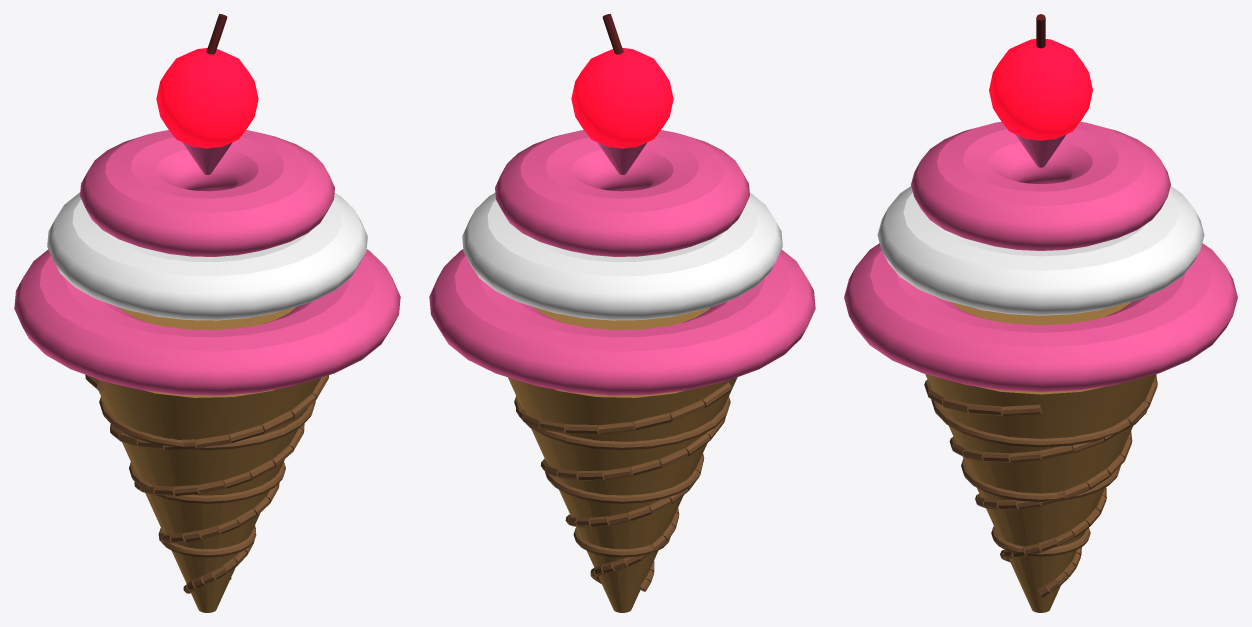
The model's file is ice_cream_cone.glb.
3 views of the same model, side by side, from view 1: azimuth 30°, elevation 25°; view 2: azimuth 150°, elevation 25°; view 3: azimuth 270°, elevation 25° (orthographic).
Parts seen in each view (by area): view 1: Swirl, Swirl.002, Swirl.001, Cone, Cherry, WaffleRing.002, WaffleRing.001, WaffleRing, SwirlTip; view 2: Swirl, Swirl.002, Swirl.001, Cone, Cherry, WaffleRing.002, WaffleRing.001, WaffleRing, SwirlTip; view 3: Swirl, Swirl.002, Swirl.001, Cone, Cherry, WaffleRing.002, WaffleRing.001, WaffleRing, SwirlTip.
Boxes of the visible parts, x1=… form: Swirl: x1=14, y1=249, x2=400, y2=395; Swirl.002: x1=80, y1=129, x2=334, y2=256; Swirl.001: x1=47, y1=192, x2=367, y2=320; Cone: x1=98, y1=306, x2=320, y2=612; Cherry: x1=156, y1=48, x2=258, y2=148; WaffleRing.002: x1=99, y1=397, x2=315, y2=450; WaffleRing.001: x1=129, y1=462, x2=285, y2=503; WaffleRing: x1=158, y1=528, x2=256, y2=557; SwirlTip: x1=183, y1=142, x2=232, y2=174; Swirl: x1=429, y1=249, x2=815, y2=395; Swirl.002: x1=495, y1=129, x2=749, y2=256; Swirl.001: x1=462, y1=192, x2=782, y2=320; Cone: x1=508, y1=306, x2=737, y2=612; Cherry: x1=571, y1=48, x2=673, y2=148; WaffleRing.002: x1=514, y1=396, x2=730, y2=450; WaffleRing.001: x1=545, y1=472, x2=696, y2=503; WaffleRing: x1=573, y1=528, x2=670, y2=557; SwirlTip: x1=597, y1=142, x2=646, y2=174; Swirl: x1=844, y1=243, x2=1237, y2=392; Swirl.002: x1=911, y1=121, x2=1170, y2=250; Swirl.001: x1=877, y1=186, x2=1204, y2=315; Cone: x1=925, y1=302, x2=1156, y2=612; Cherry: x1=989, y1=39, x2=1092, y2=140; WaffleRing.002: x1=931, y1=399, x2=1147, y2=447; WaffleRing.001: x1=961, y1=459, x2=1120, y2=501; WaffleRing: x1=991, y1=526, x2=1090, y2=556; SwirlTip: x1=1015, y1=134, x2=1066, y2=167.
Bounding box in the file's own units: 2.12 × 3.57 × 2.12.
